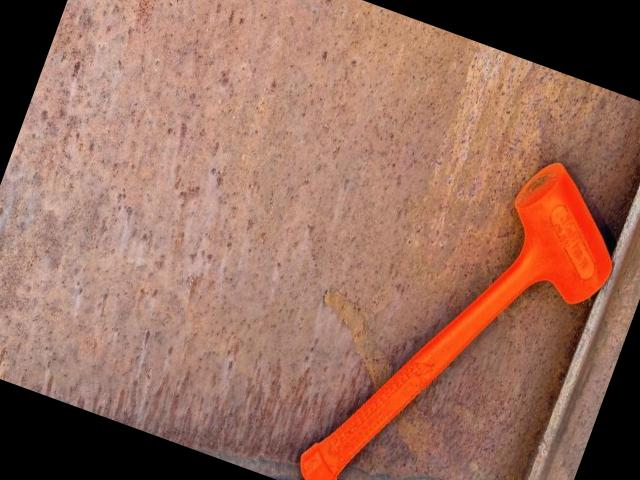hammer: (286, 111, 640, 480)
